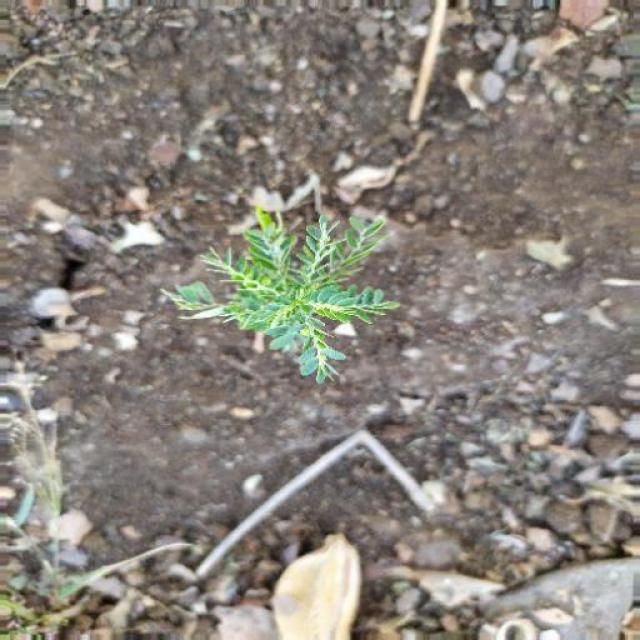weed: (167, 201, 395, 384)
